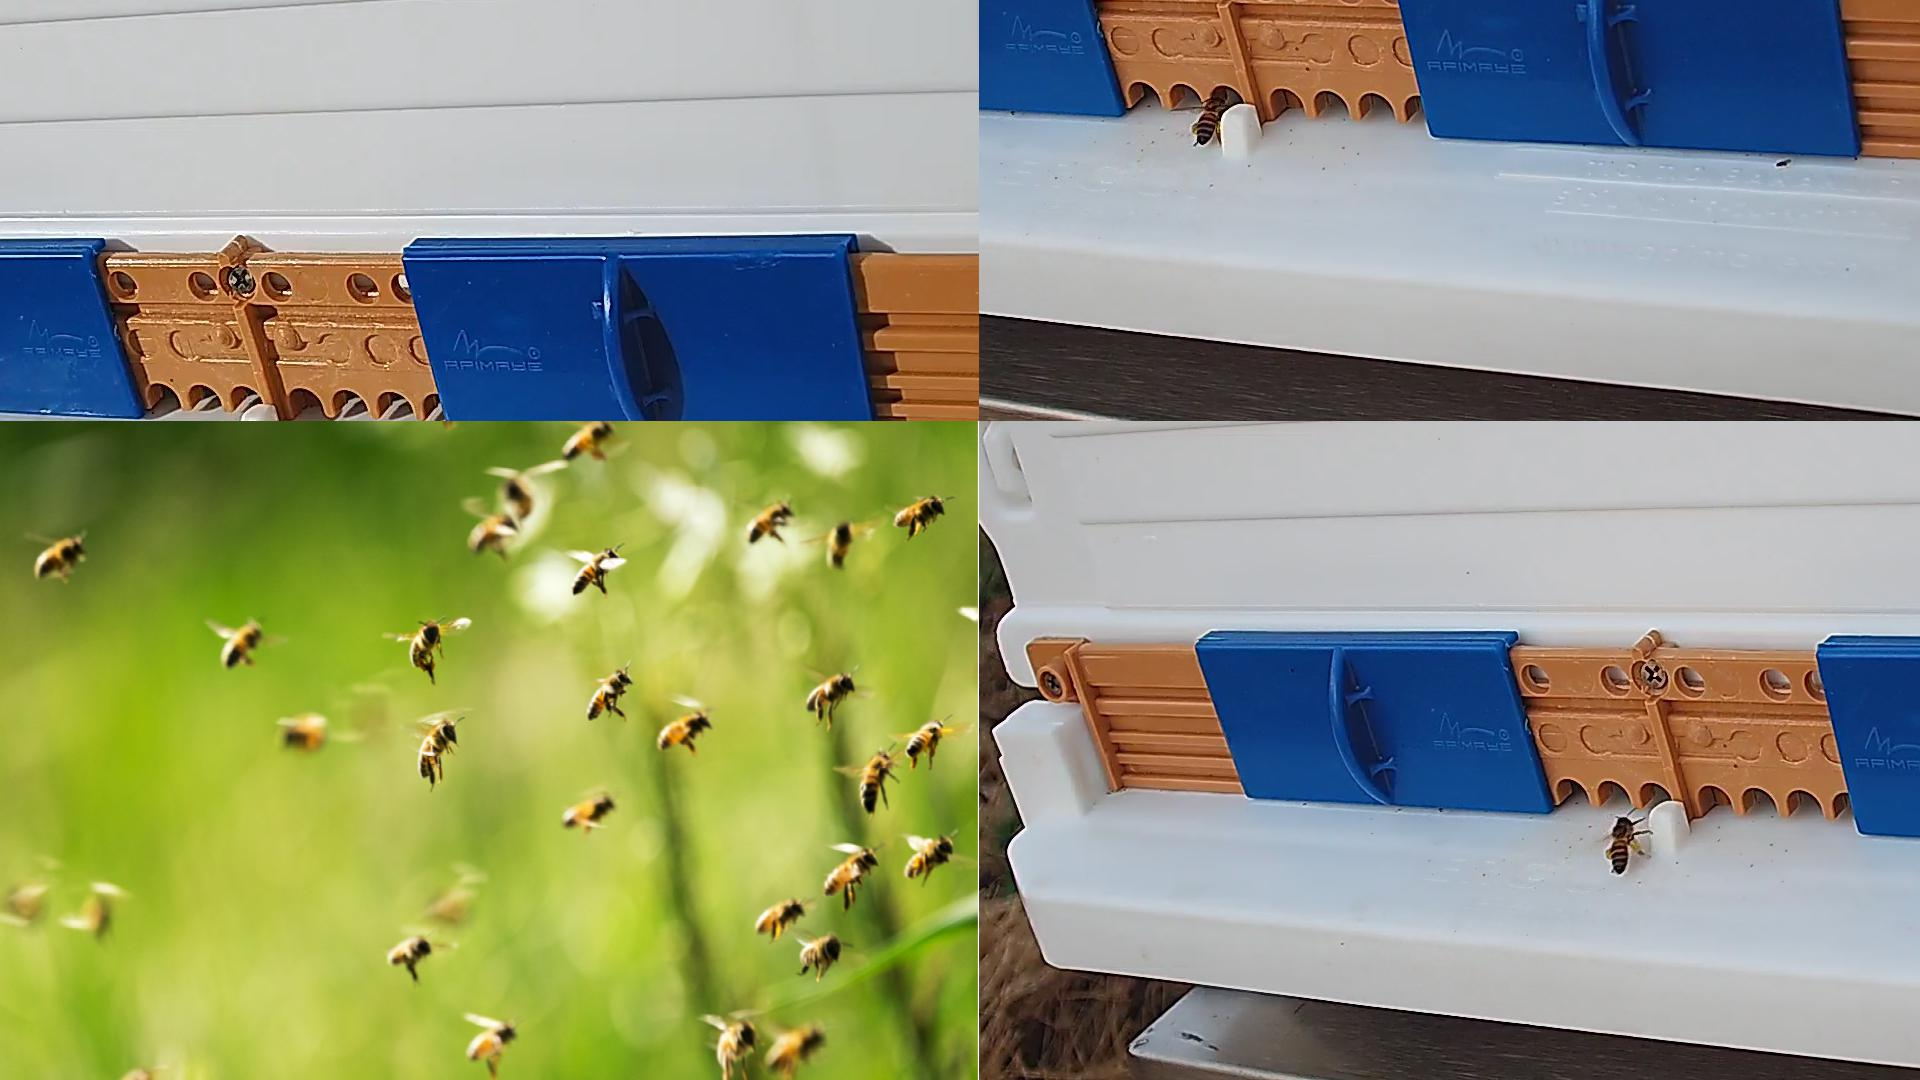bee: (587, 669, 633, 720), (824, 848, 876, 894), (769, 1029, 823, 1071), (657, 711, 712, 749), (574, 549, 618, 595), (906, 836, 952, 878), (419, 723, 455, 775), (806, 671, 856, 708), (224, 620, 262, 667), (36, 538, 79, 579), (467, 517, 517, 551), (861, 750, 889, 811), (757, 899, 804, 934), (469, 1023, 514, 1059), (564, 795, 615, 827), (280, 716, 326, 750), (717, 1022, 754, 1062), (800, 936, 843, 968), (750, 506, 790, 539), (390, 936, 429, 964), (506, 480, 534, 516), (831, 522, 852, 567)
pollenbee: (1605, 816, 1643, 874), (895, 493, 943, 533), (563, 422, 612, 460), (906, 721, 945, 767), (1191, 98, 1225, 145), (411, 621, 442, 671)
